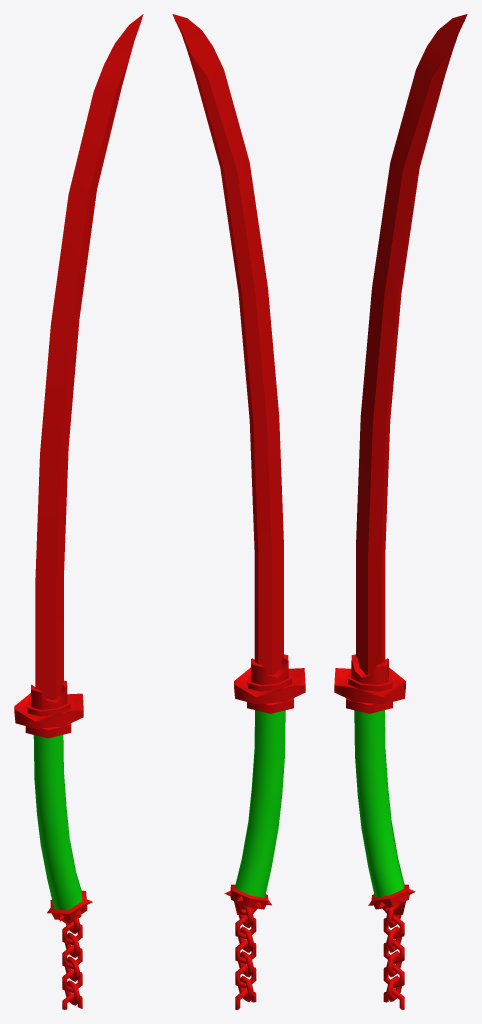
The model's file is Katana.fbx.
3 renders of one model, left to right at view 1: azimuth 30°, elevation 25°; view 2: azimuth 210°, elevation 25°; view 3: azimuth 330°, elevation 25°, orthographic. The views are drawn at different scales.
Parts seen in each view (by area): view 1: Sword; view 2: Sword; view 3: Sword.
Boxes of the visible parts, x1,y1,x2,y2 form: Sword: (14,14,143,921); Sword: (172,14,305,909); Sword: (334,14,467,909).
Bounding box in the file's own units: 41.71 × 305 × 17.33.
